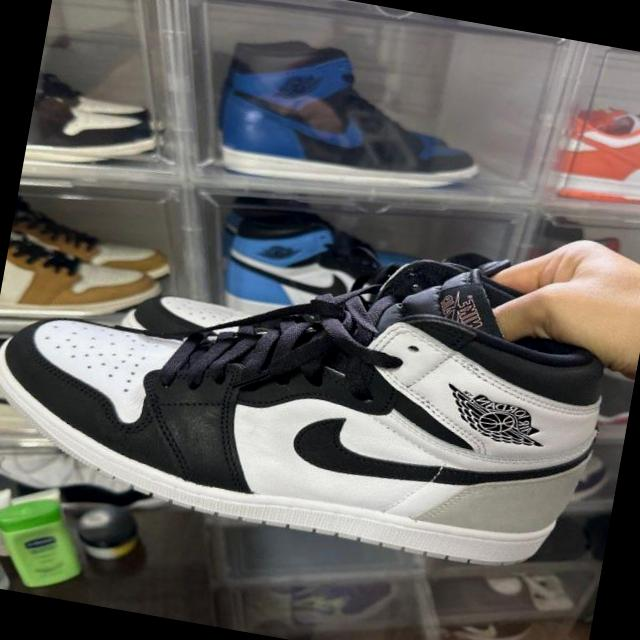nike_original_jordan: (0, 189, 624, 584)
